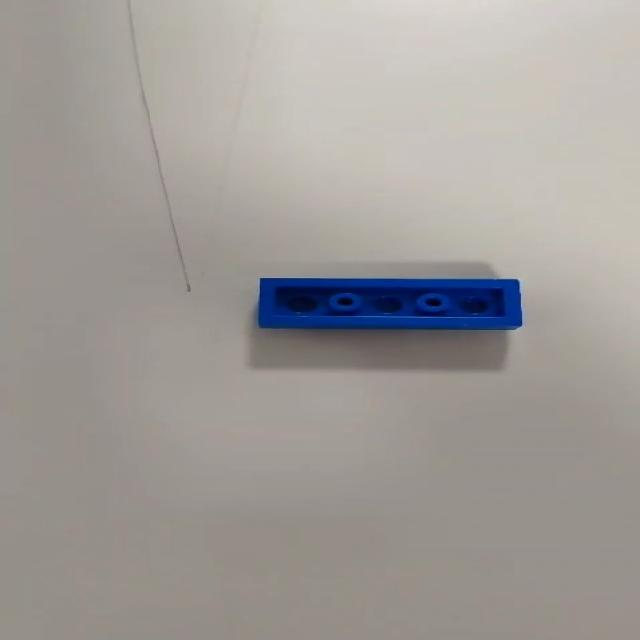C3x1x0: (257, 276, 524, 332)
